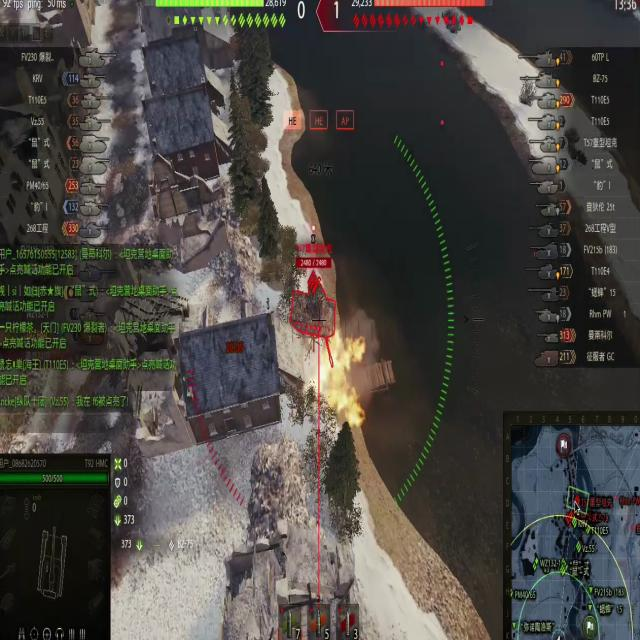tank: (291, 254, 338, 339)
